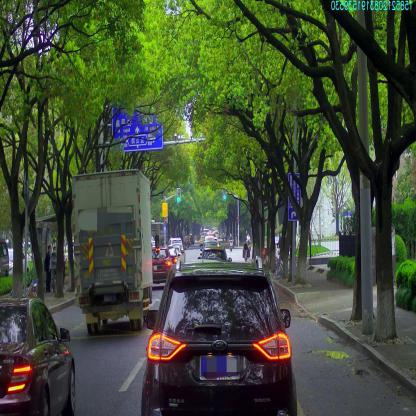traffic-light: (223, 186, 226, 200), (178, 188, 180, 202)
